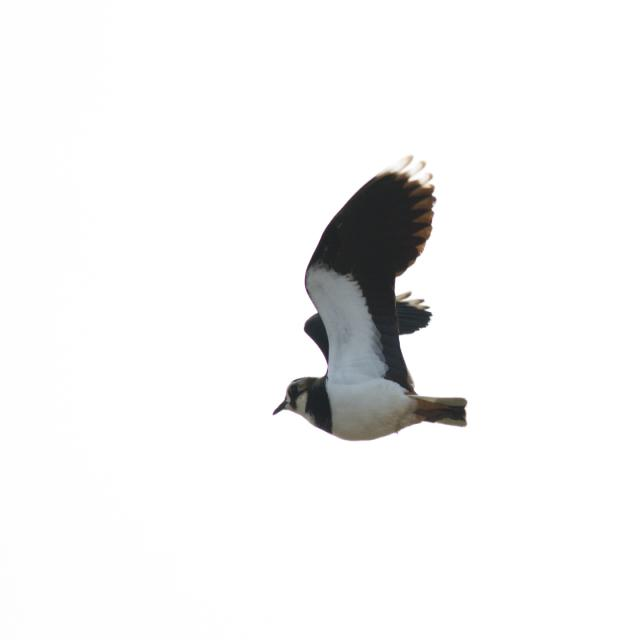bird: (269, 156, 469, 444)
